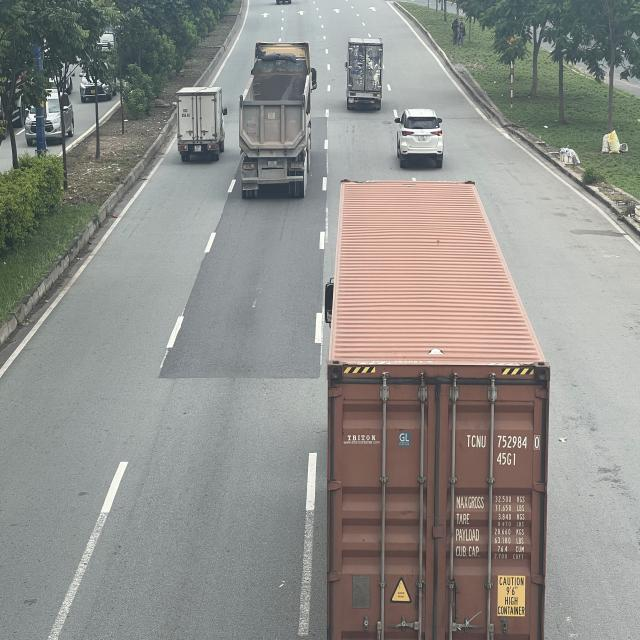car: (397, 108, 444, 169)
container: (324, 177, 550, 640), (238, 44, 317, 198)
truck: (178, 87, 228, 161), (345, 37, 384, 110)
